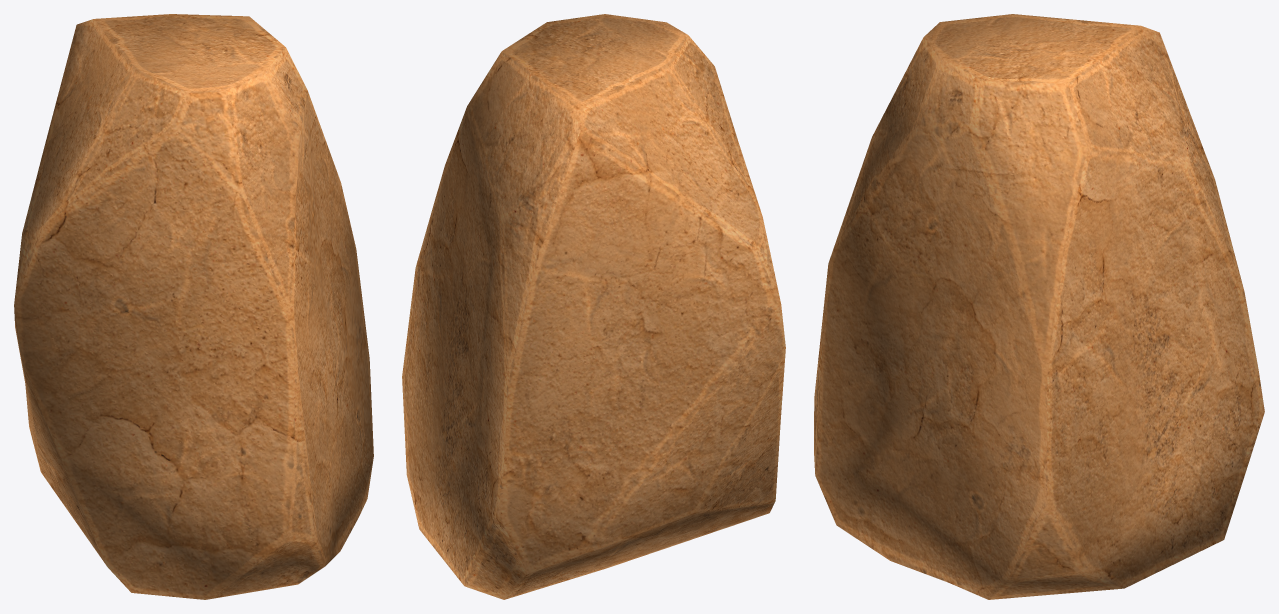
The model's file is low_poly_desert_rock.glb.
The picture shows the model from 3 angles, left to right: view 1: azimuth 30°, elevation 25°; view 2: azimuth 150°, elevation 25°; view 3: azimuth 270°, elevation 25°; orthographic projection.
Parts seen in each view (by area): view 1: Object_2; view 2: Object_2; view 3: Object_2.
Part boxes in pixels (bbox=[...]): Object_2: bbox=[14, 14, 373, 599]; Object_2: bbox=[402, 14, 785, 599]; Object_2: bbox=[814, 14, 1264, 599].
Size of the model in its own units: 2.44 by 3.02 by 2.56.
1 material, 1 textured.
